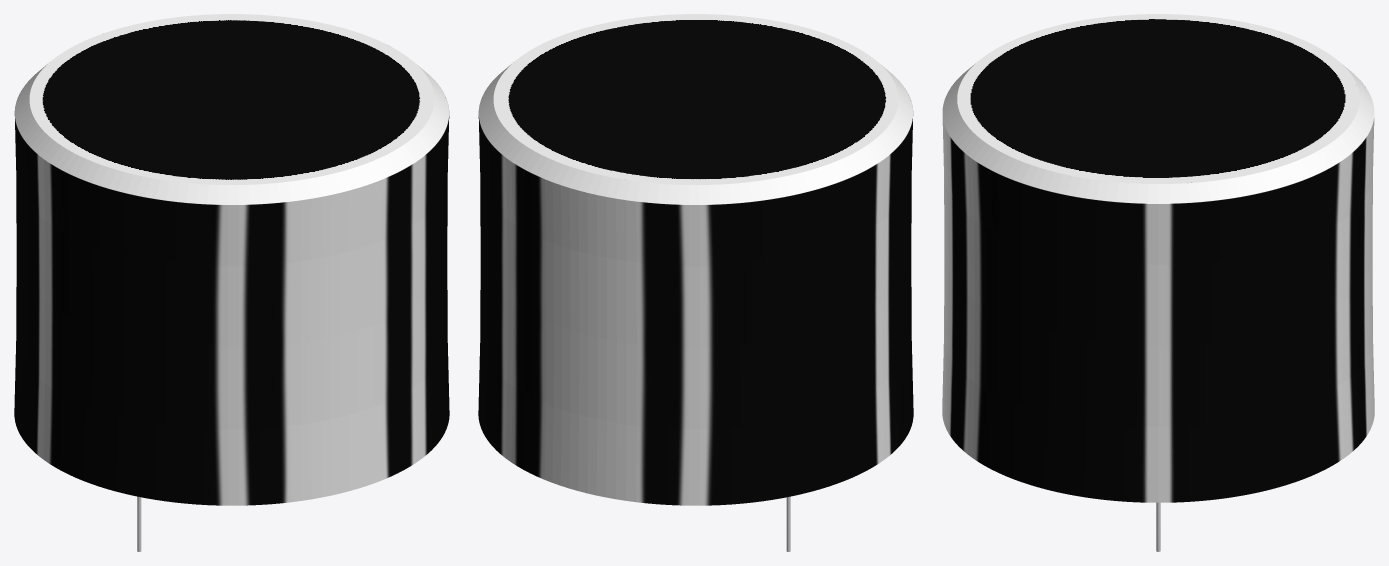
Rendered from capacitor.glb.
The picture shows the model from 3 angles, left to right: view 1: azimuth 30°, elevation 25°; view 2: azimuth 150°, elevation 25°; view 3: azimuth 270°, elevation 25°; orthographic projection.
Parts seen in each view (by area): view 1: Cylinder; view 2: Cylinder; view 3: Cylinder.
Part boxes in pixels (box(x1,y1,x2,y2)): Cylinder: box(14, 14, 449, 505); Cylinder: box(478, 14, 913, 505); Cylinder: box(942, 14, 1374, 502).
Bounding box in the file's own units: 2.03 × 2.21 × 2.03.
1 material, 1 textured.
